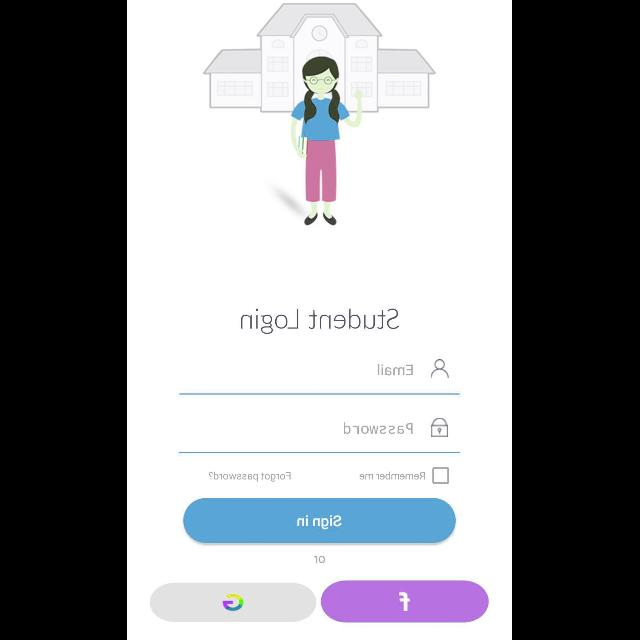checkbox: (434, 468, 450, 484)
icon: (431, 359, 449, 378), (432, 418, 448, 437)
image: (203, 3, 437, 227)
input: (180, 359, 460, 395), (180, 417, 460, 453)
text: (242, 308, 400, 334), (209, 472, 291, 482), (360, 472, 426, 480), (314, 555, 326, 563)
textbutton: (184, 498, 456, 542), (321, 580, 489, 622), (150, 582, 318, 622)
